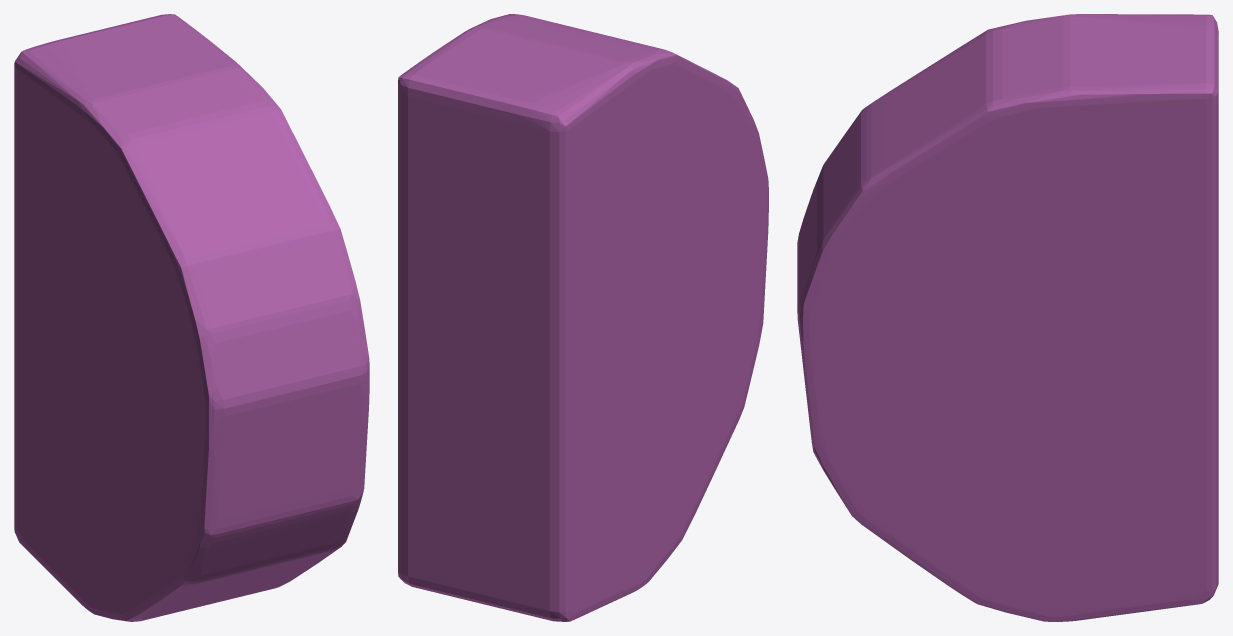
The model's file is left_f_middle_part_7.obj.
3 views of the same model, side by side, from view 1: azimuth 30°, elevation 25°; view 2: azimuth 150°, elevation 25°; view 3: azimuth 270°, elevation 25° (orthographic). The views are drawn at different scales.
Bounding box in the file's own units: 4.76 × 14.35 × 10.22.
